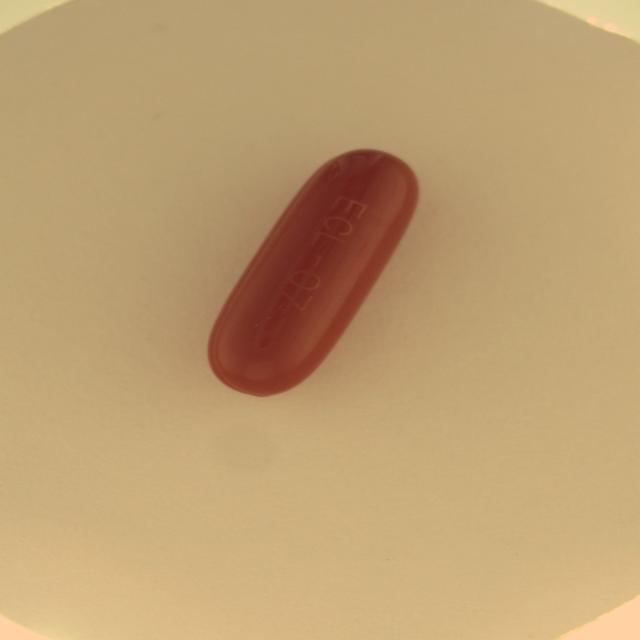Oval: (204, 147, 420, 402)
